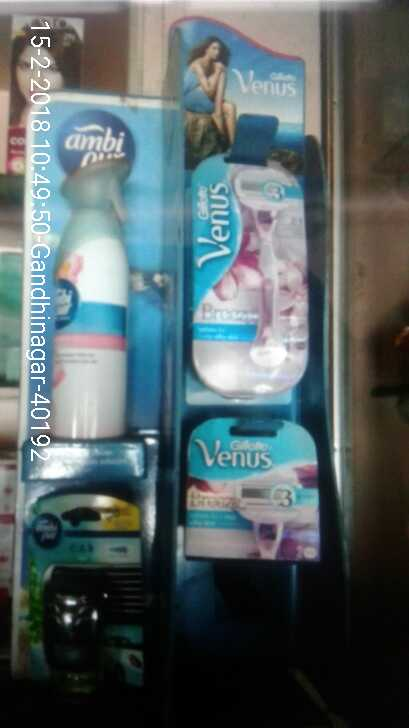beauty: (199, 158, 311, 395), (178, 417, 328, 564)
home: (26, 481, 154, 698), (52, 159, 148, 441)
